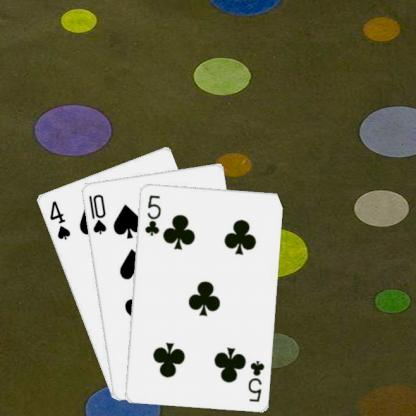10S: (86, 191, 108, 236)
4S: (46, 197, 72, 241)
5C: (245, 357, 266, 403), (141, 192, 162, 236)
